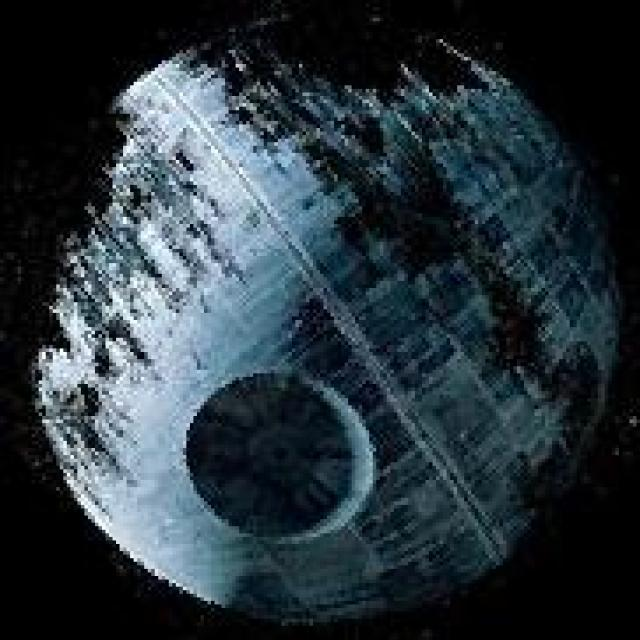Death Star: (21, 0, 629, 629)
